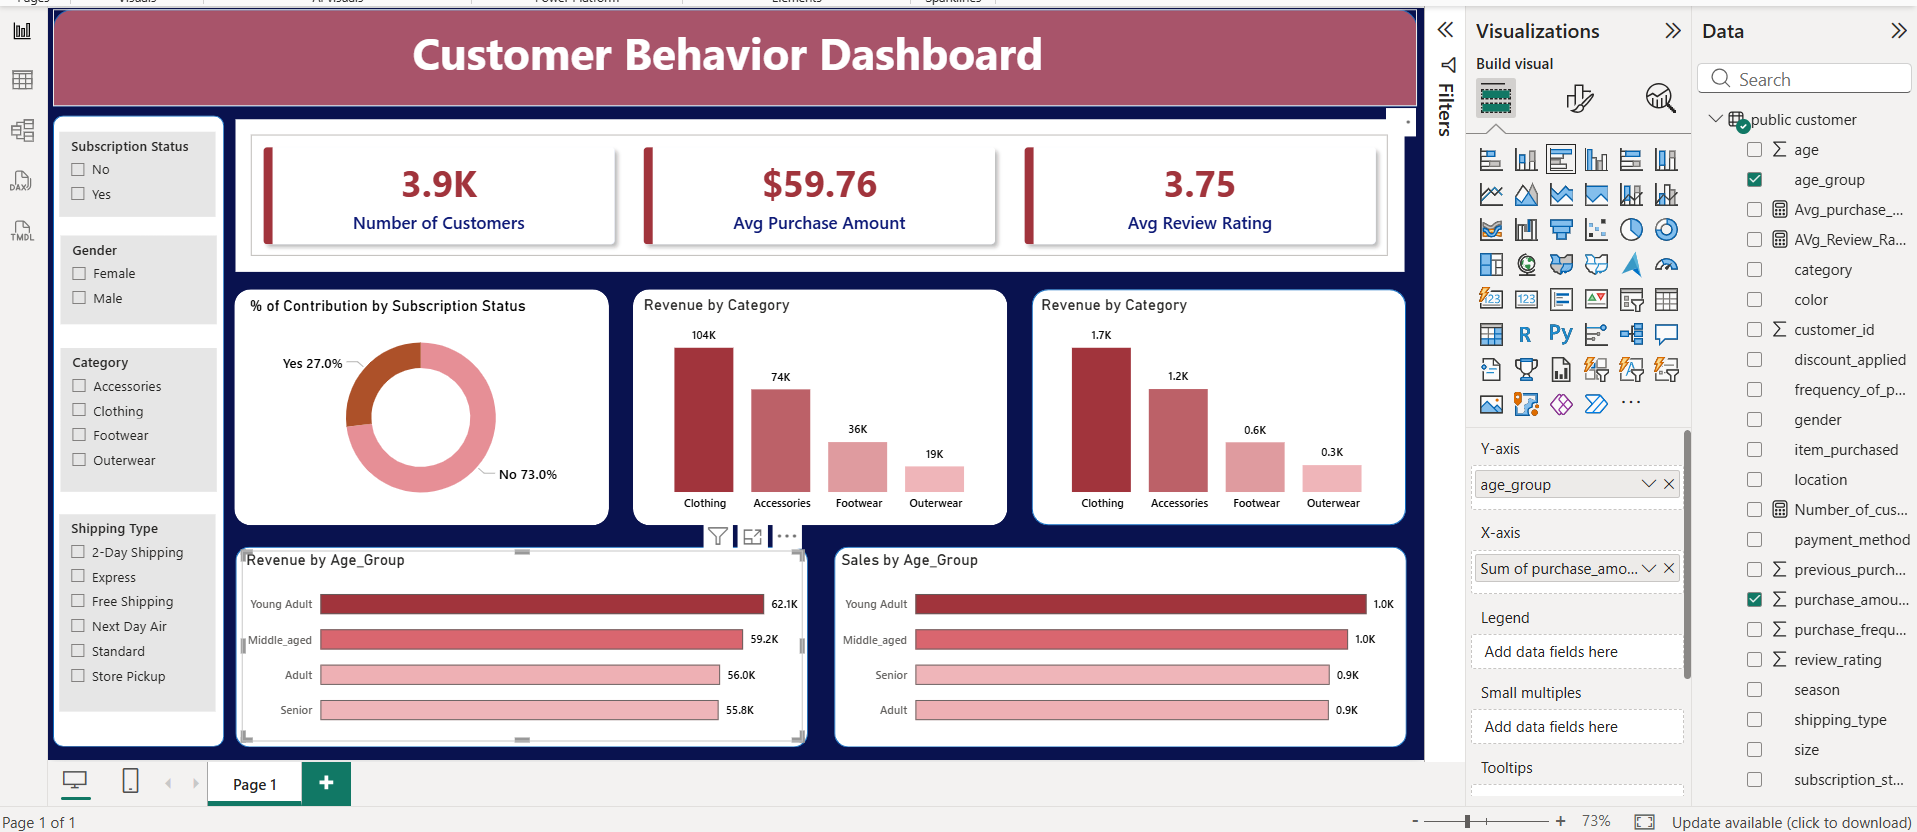

The page's visual inventory and layout, read from the dashboard file:
{"tool":"powerbi","page":{"name":"Page 1","canvas":[1500,820],"ordinal":0},"visuals":[{"type":"shape","box":[203.6,307.1,408.4,257.3],"z":0},{"type":"shape","box":[4.8,1.6,1487.5,106.1],"z":1000},{"type":"textbox","box":[392.4,10.9,764.4,87.2],"z":2000},{"type":"cardVisual","fields":{"Data":["public customer.Number_of_customers","public customer.Avg_purchase_amount","public customer.AVg_Review_Rating"]},"box":[204.4,121.3,1274.1,166.2],"z":3000},{"type":"donutChart","title":"% of Contribution by Subscription Status","fields":{"Y":["CountNonNull(public customer.customer_id)"],"Category":["public customer.subscription_status"]},"box":[215.5,315.2,382.7,244.4],"z":4000},{"type":"shape","box":[1072,307.1,408,257.3],"z":5000},{"type":"shape","box":[638,307.1,408,257.3],"z":6000},{"type":"shape","box":[204.2,586.9,623.9,218.7],"z":7000},{"type":"shape","box":[857.1,586.9,623.9,218.7],"z":8000},{"type":"clusteredColumnChart","title":"    Revenue by Category","fields":{"Category":["public customer.category"],"Y":["Sum(public customer.purchase_amount)"]},"box":[644.8,313.6,395.6,244.4],"z":9000},{"type":"clusteredColumnChart","title":"    Revenue by Category","fields":{"Category":["public customer.category"],"Y":["CountNonNull(public customer.customer_id)"]},"box":[1077.4,313.6,395.6,244.4],"z":10000},{"type":"clusteredBarChart","title":"Revenue by Age_Group","fields":{"Category":["public customer.age_group"],"Y":["Sum(public customer.purchase_amount)"]},"box":[210.7,591.8,612.7,207.4],"z":11000},{"type":"clusteredBarChart","title":"Sales by Age_Group","fields":{"Category":["public customer.age_group"],"Y":["CountNonNull(public customer.customer_id)"]},"box":[860.3,591.8,612.7,207.4],"z":12000},{"type":"shape","box":[4.8,117.4,186.5,688.3],"z":13000},{"type":"slicer","fields":{"Values":["public customer.subscription_status"]},"box":[12.3,134.9,170.3,92.7],"z":14000},{"type":"slicer","fields":{"Values":["public customer.gender"]},"box":[13.6,248,170.3,96.7],"z":15000},{"type":"slicer","fields":{"Values":["public customer.category"]},"box":[13.6,370.6,170.3,156.7],"z":16000},{"type":"slicer","fields":{"Values":["public customer.shipping_type"]},"box":[12.3,551.9,170.3,215.3],"z":16001}]}

Visuals, with their boxes on the page's 1500x820 design canvas (x1, y1, x2, y2). These are canvas units, not pixel positions in the 1917x832 screenshot, which may show the page scaled, cropped or inside an application window:
shape: x1=204, y1=307, x2=612, y2=564
shape: x1=5, y1=2, x2=1492, y2=108
textbox: x1=392, y1=11, x2=1157, y2=98
cardVisual - public customer.Number_of_customers x public customer.Avg_purchase_amount: x1=204, y1=121, x2=1478, y2=288
"% of Contribution by Subscription Status" donutChart: x1=216, y1=315, x2=598, y2=560
shape: x1=1072, y1=307, x2=1480, y2=564
shape: x1=638, y1=307, x2=1046, y2=564
shape: x1=204, y1=587, x2=828, y2=806
shape: x1=857, y1=587, x2=1481, y2=806
"    Revenue by Category" clusteredColumnChart: x1=645, y1=314, x2=1040, y2=558
"    Revenue by Category" clusteredColumnChart: x1=1077, y1=314, x2=1473, y2=558
"Revenue by Age_Group" clusteredBarChart: x1=211, y1=592, x2=823, y2=799
"Sales by Age_Group" clusteredBarChart: x1=860, y1=592, x2=1473, y2=799
shape: x1=5, y1=117, x2=191, y2=806
slicer - public customer.subscription_status: x1=12, y1=135, x2=183, y2=228
slicer - public customer.gender: x1=14, y1=248, x2=184, y2=345
slicer - public customer.category: x1=14, y1=371, x2=184, y2=527
slicer - public customer.shipping_type: x1=12, y1=552, x2=183, y2=767
